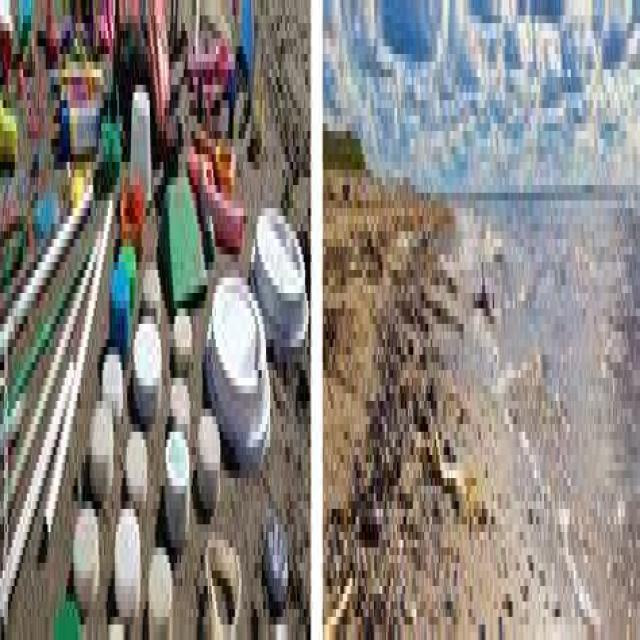plasticbottlecap: (206, 243, 274, 496), (253, 173, 312, 364), (100, 247, 134, 387), (112, 500, 146, 634), (70, 500, 106, 622), (163, 408, 191, 552), (131, 309, 166, 423), (194, 405, 225, 528), (87, 375, 116, 505), (143, 540, 176, 640), (124, 419, 154, 514), (172, 265, 194, 387)
